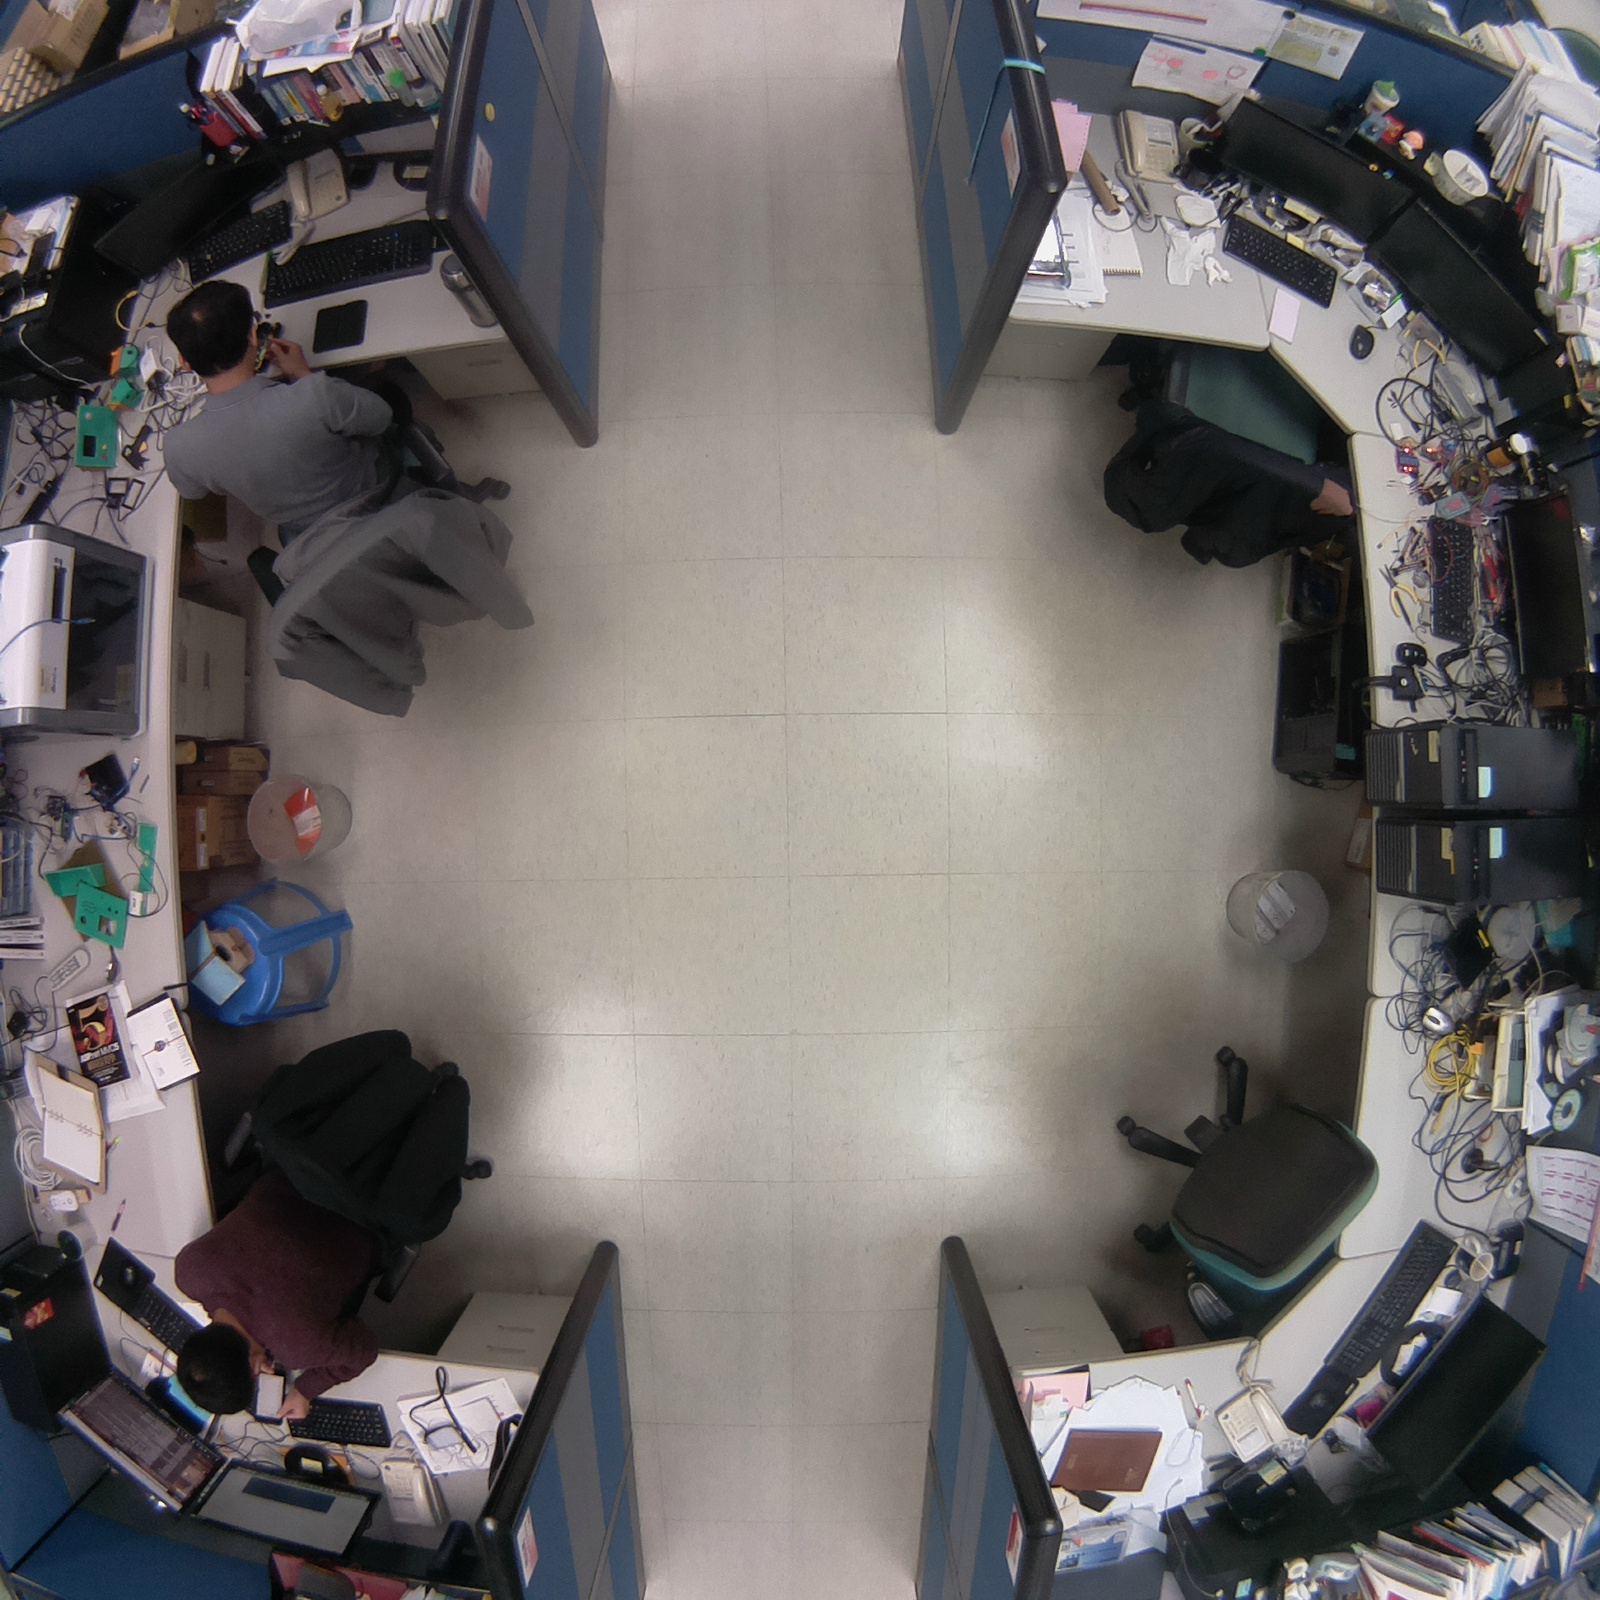chair: (1083, 1011, 1399, 1352), (1076, 314, 1373, 588)
head: (172, 1308, 272, 1429), (159, 276, 263, 385)
sitting: (141, 278, 555, 750), (155, 993, 517, 1431)
